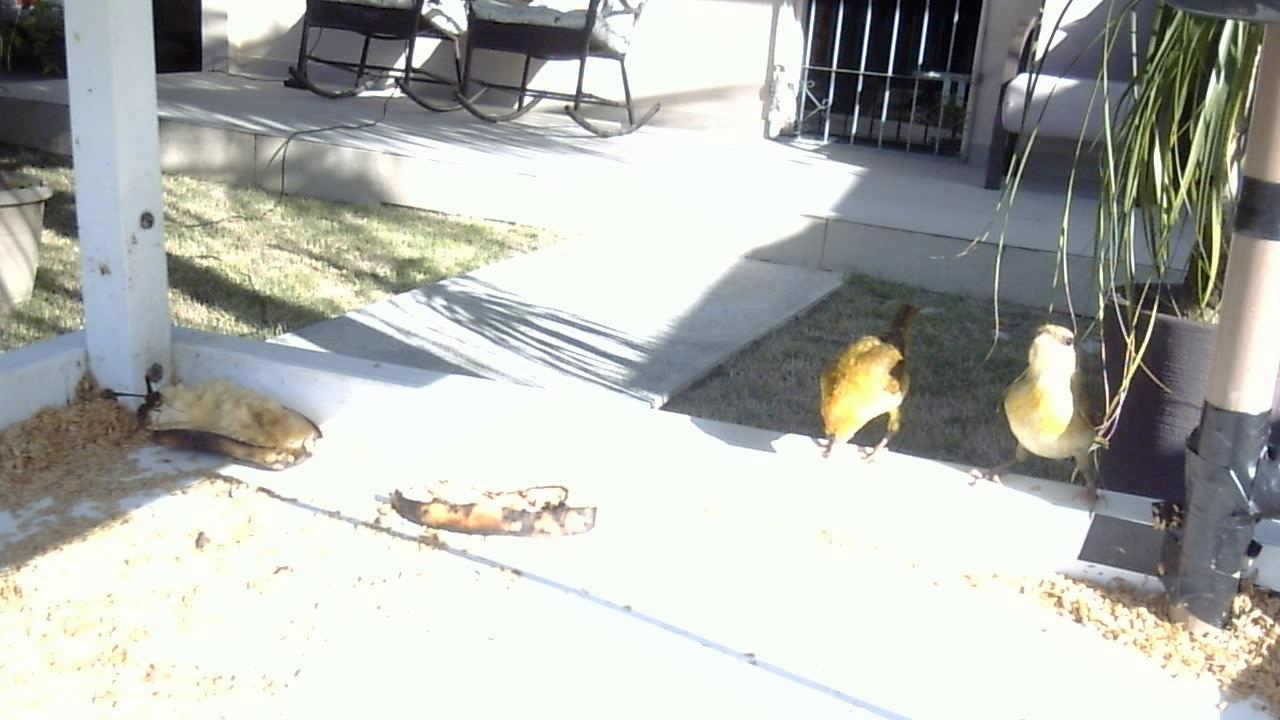canario_do_amazonas: (788, 288, 939, 475), (978, 321, 1117, 499)
